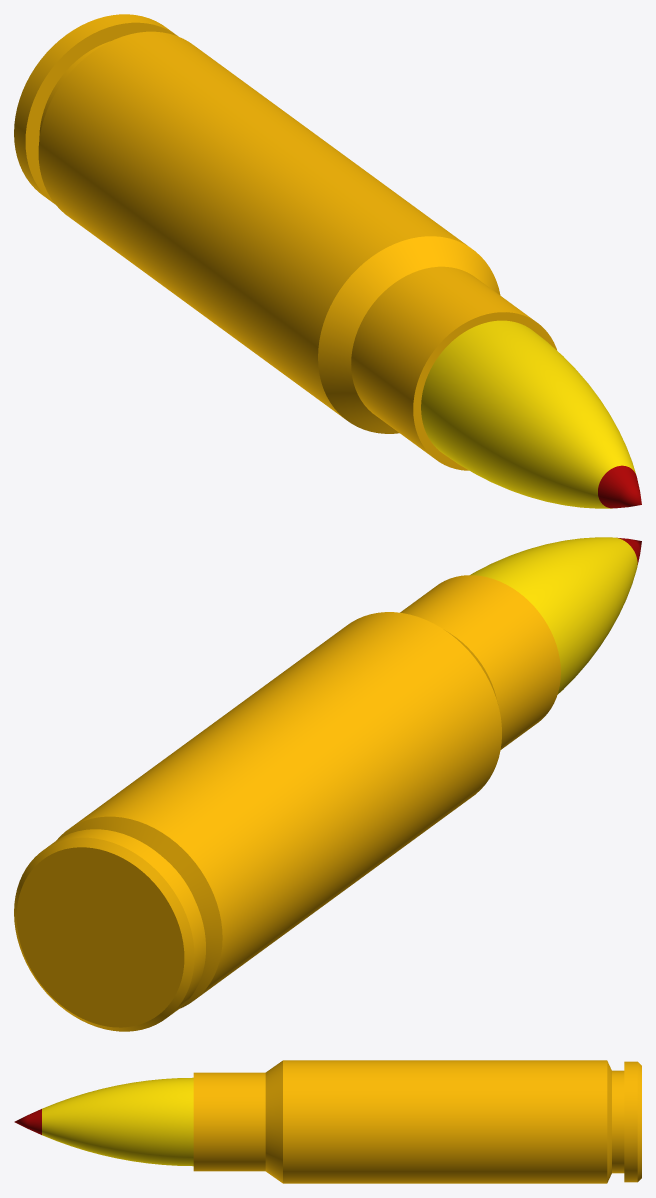
Rendered from bullet.fbx.
The picture shows the model from 3 angles, top to bottom: view 1: azimuth 30°, elevation 25°; view 2: azimuth 150°, elevation 25°; view 3: azimuth 270°, elevation 25°; orthographic projection. The views are drawn at different scales.
Visible parts, largest first — view 1: Group2, Group1; view 2: Group2, Group1; view 3: Group2, Group1.
Part boxes in pixels (x1,y1,x2,y2): Group2: (14,14,556,470); Group1: (421,320,641,508); Group2: (14,575,560,1031); Group1: (470,537,641,694); Group2: (193,1060,641,1183); Group1: (14,1077,193,1166).
Bounding box in the file's own units: 7.95 × 7.95 × 40.5.
